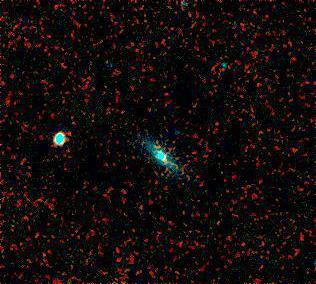star: (192, 178, 222, 208)
